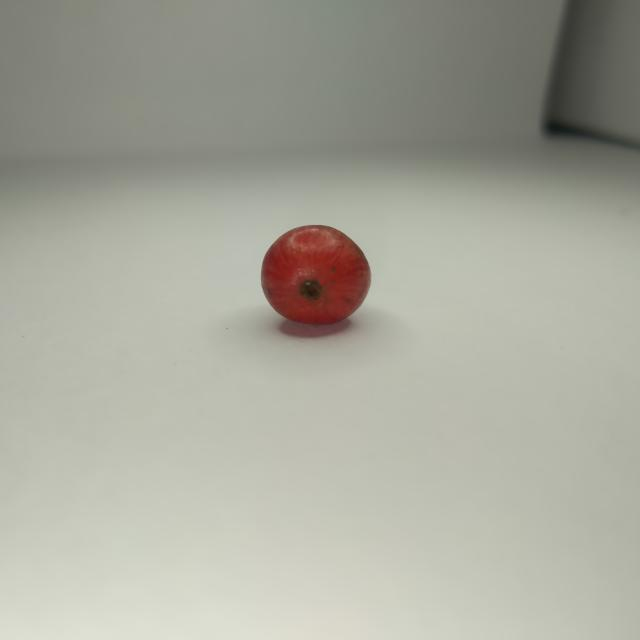Infectado: (261, 225, 370, 329)
